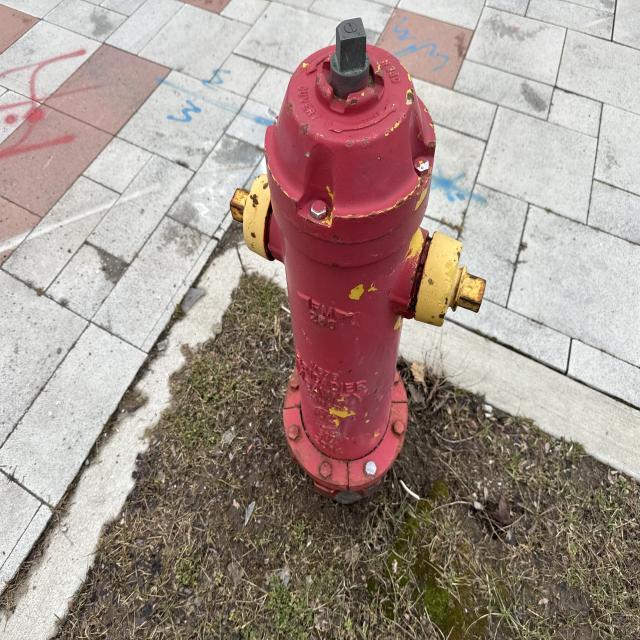Fire hydrant: (228, 15, 488, 497)
